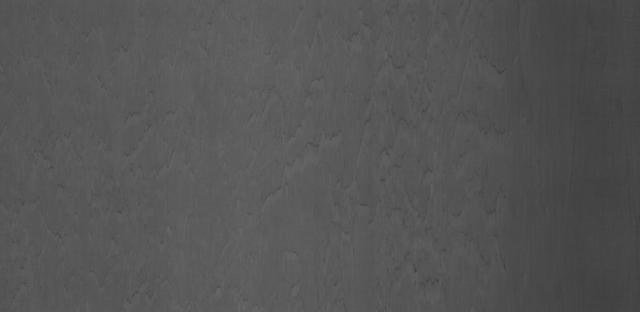silk_spot: (254, 54, 428, 235), (437, 30, 539, 264)
